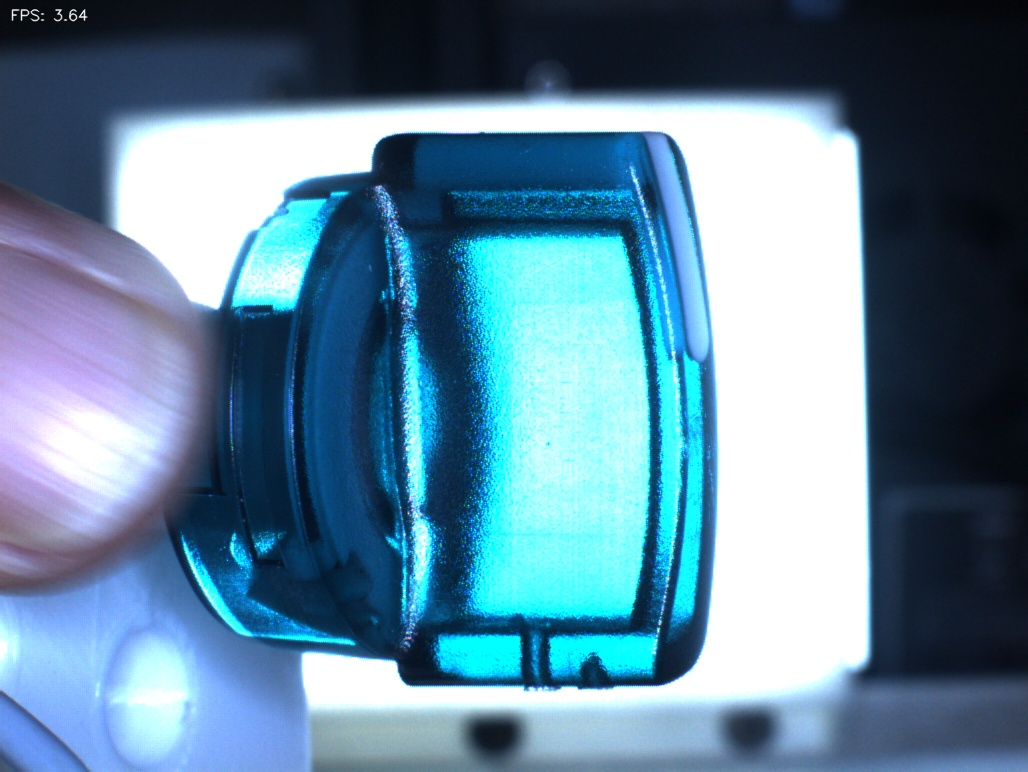Bulle: (487, 594, 581, 709)
